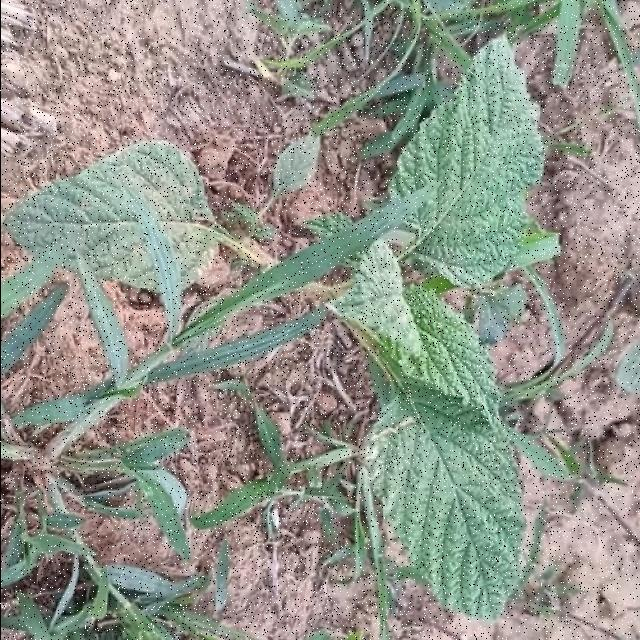weed: (331, 240, 524, 619), (390, 38, 543, 287), (7, 141, 216, 293)
